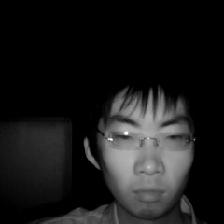normal: (79, 72, 210, 219)
